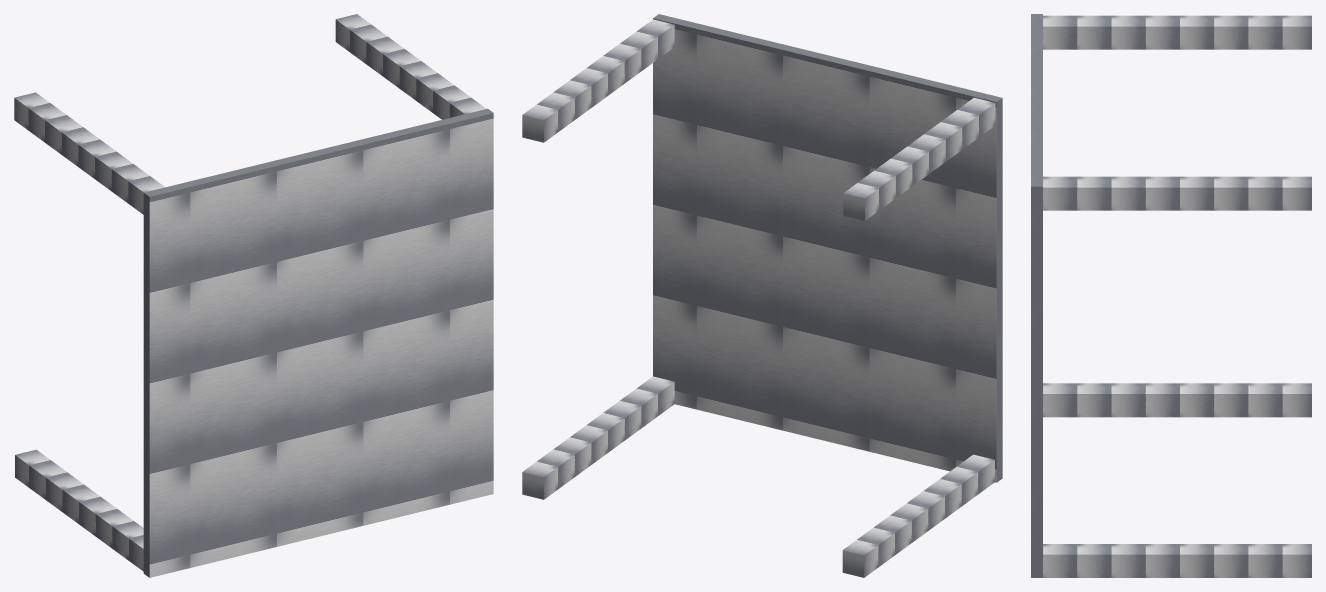
The model's file is Table_old.dae.
3 views of the same model, side by side, from view 1: azimuth 30°, elevation 25°; view 2: azimuth 150°, elevation 25°; view 3: azimuth 270°, elevation 25° (orthographic). The views are drawn at different scales.
Visible parts, largest first — view 1: node; view 2: node; view 3: node.
Boxes of the visible parts, bbox=[...] form: node: bbox=[14, 14, 493, 577]; node: bbox=[522, 14, 1002, 577]; node: bbox=[1031, 14, 1311, 577].
Bounding box in the file's own units: 2.86 × 3.03 × 1.97.
